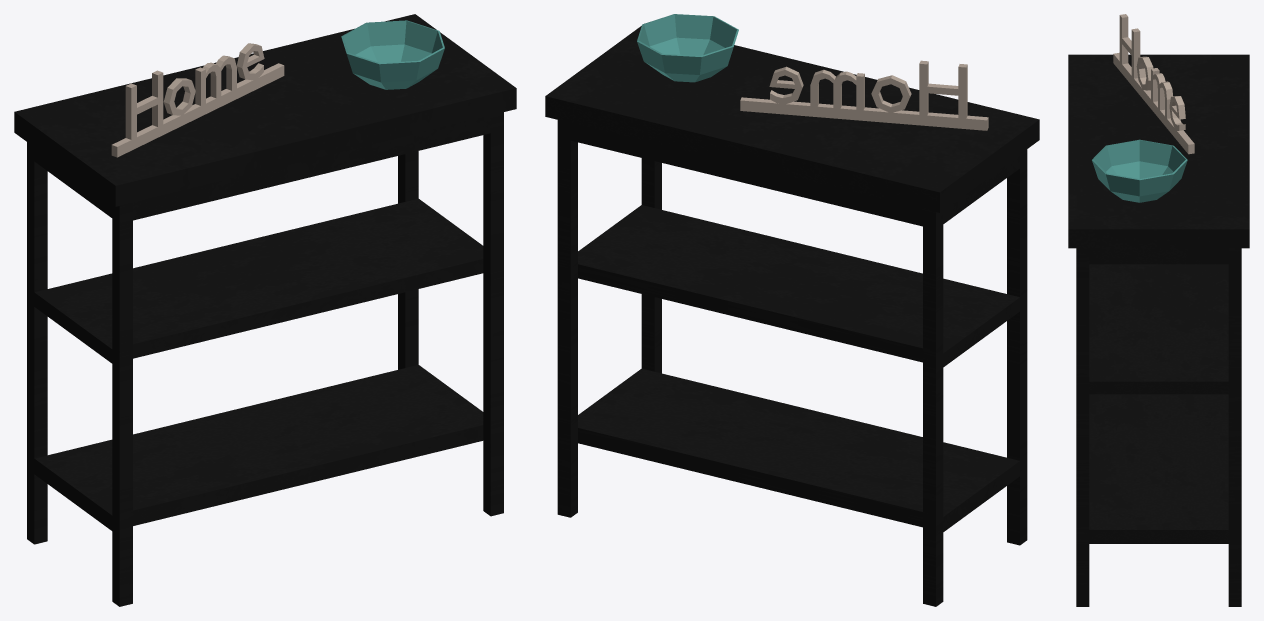
The model's file is Ingresso_tavolino.fbx.
The picture shows the model from 3 angles, left to right: view 1: azimuth 30°, elevation 25°; view 2: azimuth 150°, elevation 25°; view 3: azimuth 270°, elevation 25°; orthographic projection. The views are drawn at different scales.
Parts seen in each view (by area): view 1: tavolo; view 2: tavolo; view 3: tavolo.
Part boxes in pixels (x1,y1,x2,y2): tavolo: [14, 14, 516, 606]; tavolo: [545, 14, 1039, 606]; tavolo: [1068, 14, 1249, 606].
Bounding box in the file's own units: 87.51 × 103 × 38.31.
